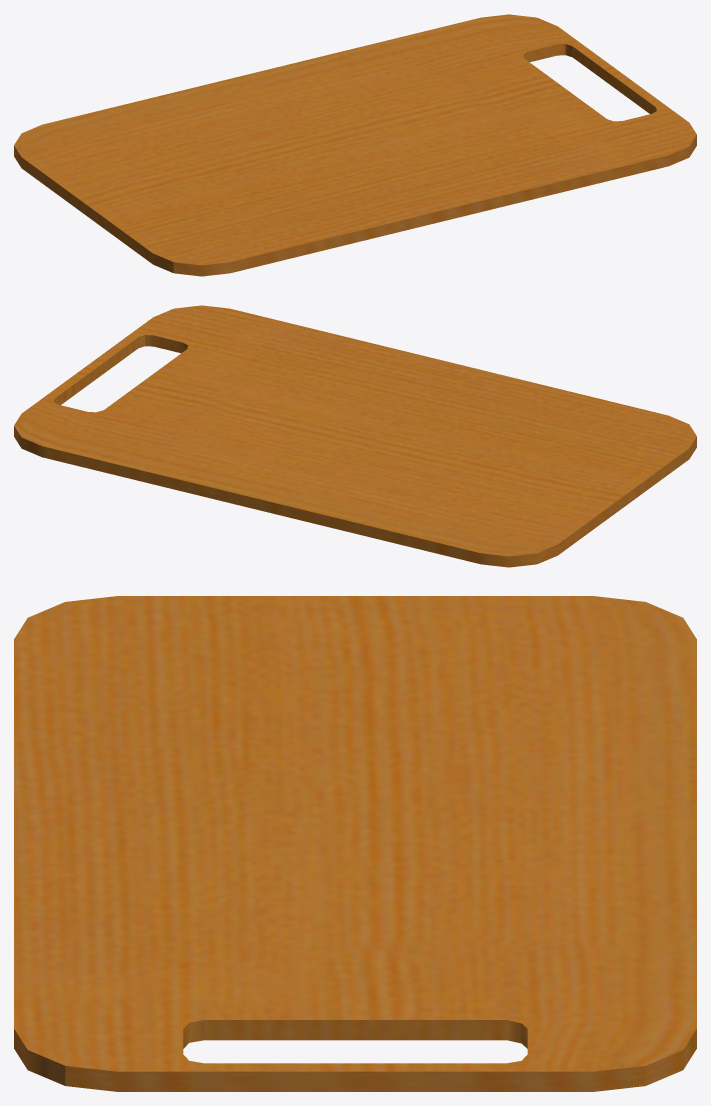
File: manaita.fbx
3 renders of one model, top to bottom at view 1: azimuth 30°, elevation 25°; view 2: azimuth 150°, elevation 25°; view 3: azimuth 270°, elevation 25°, orthographic. The views are drawn at different scales.
Visible parts, largest first — view 1: pCube3; view 2: pCube3; view 3: pCube3.
Boxes of the visible parts, box(x1,y1,x2,y2) form: pCube3: box(14, 14, 696, 276); pCube3: box(14, 305, 696, 567); pCube3: box(14, 596, 696, 1091).
Bounding box in the file's own units: 2.54 × 0.0504 × 1.54.
1 material, 1 textured.
